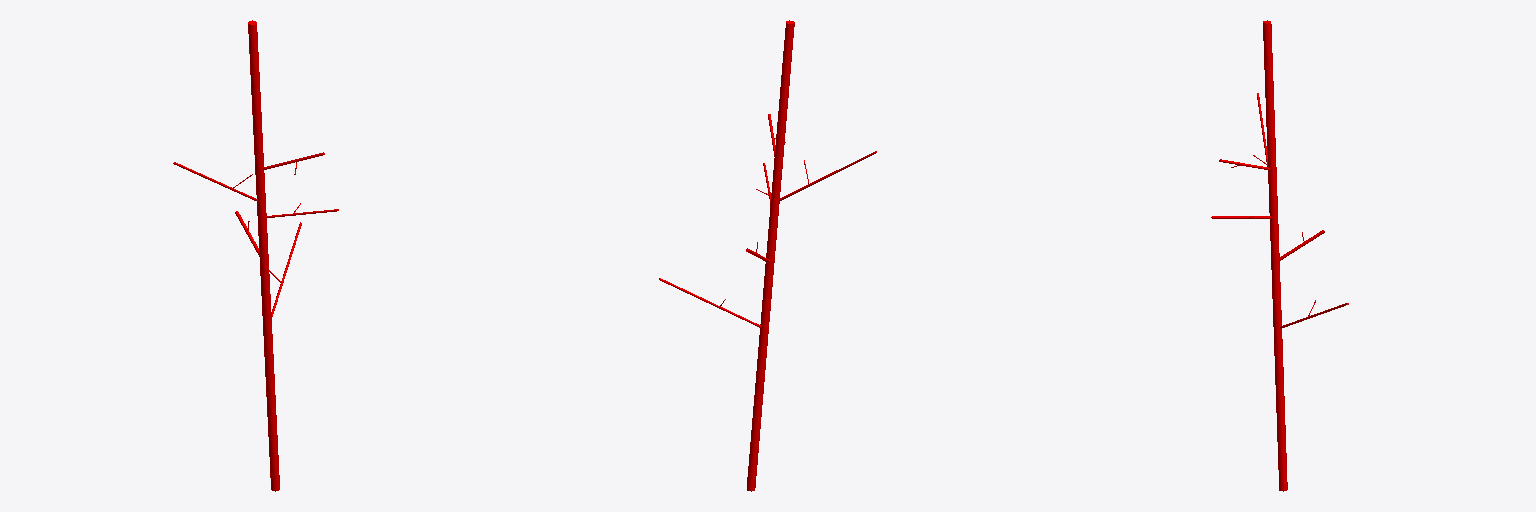
The robot description file, URDF, robot "tree_193.urdf":
<?xml version='1.0' encoding='UTF-8'?>
<robot name="tree_193.urdf">
  <link name="branch_0">
    <inertial>
      <origin xyz="0.0 0.0 0.0" rpy="0.0 -0.0 0.0"/>
      <mass value="0.1"/>
      <inertia ixx="0.001" ixy="0.0" ixz="0.0" iyy="0.001" iyz="0.0" izz="0.001"/>
    </inertial>
    <visual name="branch_0_visual">
      <geometry>
        <cylinder radius="0.08760829217096629" length="10.22657704742561"/>
      </geometry>
      <material name="semantic_material"/>
      <origin xyz="-0.3532584911329669 -0.16659699488465818 5.098350067077675" rpy="0.0 0.07645810023655039 -2.700921392462164"/>
    </visual>
    <collision name="branch_0_collision">
      <geometry>
        <cylinder radius="0.08760829217096629" length="10.22657704742561"/>
      </geometry>
      <origin xyz="-0.3532584911329669 -0.16659699488465818 5.098350067077675" rpy="0.0 0.07645810023655039 -2.700921392462164"/>
    </collision>
  </link>
  <link name="branch_1">
    <inertial>
      <origin xyz="0.0 0.0 0.0" rpy="0.0 -0.0 0.0"/>
      <mass value="0.1"/>
      <inertia ixx="0.001" ixy="0.0" ixz="0.0" iyy="0.001" iyz="0.0" izz="0.001"/>
    </inertial>
    <visual name="branch_1_visual">
      <geometry>
        <cylinder radius="0.034372237365406046" length="1.195535919893722"/>
      </geometry>
      <material name="semantic_material"/>
      <origin xyz="0.0 0.0 0.0" rpy="0.0 -0.0 0.0"/>
    </visual>
    <collision name="branch_1_collision">
      <geometry>
        <cylinder radius="0.034372237365406046" length="1.195535919893722"/>
      </geometry>
      <origin xyz="0.0 0.0 0.0" rpy="0.0 -0.0 0.0"/>
    </collision>
  </link>
  <link name="branch_2">
    <inertial>
      <origin xyz="0.0 0.0 0.0" rpy="0.0 -0.0 0.0"/>
      <mass value="0.1"/>
      <inertia ixx="0.001" ixy="0.0" ixz="0.0" iyy="0.001" iyz="0.0" izz="0.001"/>
    </inertial>
    <visual name="branch_2_visual">
      <geometry>
        <cylinder radius="0.01" length="0.26013743660342514"/>
      </geometry>
      <material name="semantic_material"/>
      <origin xyz="0.0 0.0 0.0" rpy="0.0 -0.0 0.0"/>
    </visual>
    <collision name="branch_2_collision">
      <geometry>
        <cylinder radius="0.01" length="0.26013743660342514"/>
      </geometry>
      <origin xyz="0.0 0.0 0.0" rpy="0.0 -0.0 0.0"/>
    </collision>
  </link>
  <link name="branch_3">
    <inertial>
      <origin xyz="0.0 0.0 0.0" rpy="0.0 -0.0 0.0"/>
      <mass value="0.1"/>
      <inertia ixx="0.001" ixy="0.0" ixz="0.0" iyy="0.001" iyz="0.0" izz="0.001"/>
    </inertial>
    <visual name="branch_3_visual">
      <geometry>
        <cylinder radius="0.0220740018327571" length="1.64870606600285"/>
      </geometry>
      <material name="semantic_material"/>
      <origin xyz="0.0 0.0 0.0" rpy="0.0 -0.0 0.0"/>
    </visual>
    <collision name="branch_3_collision">
      <geometry>
        <cylinder radius="0.0220740018327571" length="1.64870606600285"/>
      </geometry>
      <origin xyz="0.0 0.0 0.0" rpy="0.0 -0.0 0.0"/>
    </collision>
  </link>
  <link name="branch_4">
    <inertial>
      <origin xyz="0.0 0.0 0.0" rpy="0.0 -0.0 0.0"/>
      <mass value="0.1"/>
      <inertia ixx="0.001" ixy="0.0" ixz="0.0" iyy="0.001" iyz="0.0" izz="0.001"/>
    </inertial>
    <visual name="branch_4_visual">
      <geometry>
        <cylinder radius="0.01" length="0.3044746708838718"/>
      </geometry>
      <material name="semantic_material"/>
      <origin xyz="0.0 0.0 0.0" rpy="0.0 -0.0 0.0"/>
    </visual>
    <collision name="branch_4_collision">
      <geometry>
        <cylinder radius="0.01" length="0.3044746708838718"/>
      </geometry>
      <origin xyz="0.0 0.0 0.0" rpy="0.0 -0.0 0.0"/>
    </collision>
  </link>
  <link name="branch_5">
    <inertial>
      <origin xyz="0.0 0.0 0.0" rpy="0.0 -0.0 0.0"/>
      <mass value="0.1"/>
      <inertia ixx="0.001" ixy="0.0" ixz="0.0" iyy="0.001" iyz="0.0" izz="0.001"/>
    </inertial>
    <visual name="branch_5_visual">
      <geometry>
        <cylinder radius="0.028685349026351233" length="1.4568151493774562"/>
      </geometry>
      <material name="semantic_material"/>
      <origin xyz="0.0 0.0 0.0" rpy="0.0 -0.0 0.0"/>
    </visual>
    <collision name="branch_5_collision">
      <geometry>
        <cylinder radius="0.028685349026351233" length="1.4568151493774562"/>
      </geometry>
      <origin xyz="0.0 0.0 0.0" rpy="0.0 -0.0 0.0"/>
    </collision>
  </link>
  <link name="branch_6">
    <inertial>
      <origin xyz="0.0 0.0 0.0" rpy="0.0 -0.0 0.0"/>
      <mass value="0.1"/>
      <inertia ixx="0.001" ixy="0.0" ixz="0.0" iyy="0.001" iyz="0.0" izz="0.001"/>
    </inertial>
    <visual name="branch_6_visual">
      <geometry>
        <cylinder radius="0.0100303364968247" length="0.3323636471024046"/>
      </geometry>
      <material name="semantic_material"/>
      <origin xyz="0.0 0.0 0.0" rpy="0.0 -0.0 0.0"/>
    </visual>
    <collision name="branch_6_collision">
      <geometry>
        <cylinder radius="0.0100303364968247" length="0.3323636471024046"/>
      </geometry>
      <origin xyz="0.0 0.0 0.0" rpy="0.0 -0.0 0.0"/>
    </collision>
  </link>
  <link name="branch_7">
    <inertial>
      <origin xyz="0.0 0.0 0.0" rpy="0.0 -0.0 0.0"/>
      <mass value="0.1"/>
      <inertia ixx="0.001" ixy="0.0" ixz="0.0" iyy="0.001" iyz="0.0" izz="0.001"/>
    </inertial>
    <visual name="branch_7_visual">
      <geometry>
        <cylinder radius="0.02435582551982178" length="2.5895626545901753"/>
      </geometry>
      <material name="semantic_material"/>
      <origin xyz="0.0 0.0 0.0" rpy="0.0 -0.0 0.0"/>
    </visual>
    <collision name="branch_7_collision">
      <geometry>
        <cylinder radius="0.02435582551982178" length="2.5895626545901753"/>
      </geometry>
      <origin xyz="0.0 0.0 0.0" rpy="0.0 -0.0 0.0"/>
    </collision>
  </link>
  <link name="branch_8">
    <inertial>
      <origin xyz="0.0 0.0 0.0" rpy="0.0 -0.0 0.0"/>
      <mass value="0.1"/>
      <inertia ixx="0.001" ixy="0.0" ixz="0.0" iyy="0.001" iyz="0.0" izz="0.001"/>
    </inertial>
    <visual name="branch_8_visual">
      <geometry>
        <cylinder radius="0.01" length="0.5506922758403161"/>
      </geometry>
      <material name="semantic_material"/>
      <origin xyz="0.0 0.0 0.0" rpy="0.0 -0.0 0.0"/>
    </visual>
    <collision name="branch_8_collision">
      <geometry>
        <cylinder radius="0.01" length="0.5506922758403161"/>
      </geometry>
      <origin xyz="0.0 0.0 0.0" rpy="0.0 -0.0 0.0"/>
    </collision>
  </link>
  <link name="branch_9">
    <inertial>
      <origin xyz="0.0 0.0 0.0" rpy="0.0 -0.0 0.0"/>
      <mass value="0.1"/>
      <inertia ixx="0.001" ixy="0.0" ixz="0.0" iyy="0.001" iyz="0.0" izz="0.001"/>
    </inertial>
    <visual name="branch_9_visual">
      <geometry>
        <cylinder radius="0.02382242376719312" length="2.482213549675981"/>
      </geometry>
      <material name="semantic_material"/>
      <origin xyz="0.0 0.0 0.0" rpy="0.0 -0.0 0.0"/>
    </visual>
    <collision name="branch_9_collision">
      <geometry>
        <cylinder radius="0.02382242376719312" length="2.482213549675981"/>
      </geometry>
      <origin xyz="0.0 0.0 0.0" rpy="0.0 -0.0 0.0"/>
    </collision>
  </link>
  <link name="branch_10">
    <inertial>
      <origin xyz="0.0 0.0 0.0" rpy="0.0 -0.0 0.0"/>
      <mass value="0.1"/>
      <inertia ixx="0.001" ixy="0.0" ixz="0.0" iyy="0.001" iyz="0.0" izz="0.001"/>
    </inertial>
    <visual name="branch_10_visual">
      <geometry>
        <cylinder radius="0.01" length="0.41863909189171883"/>
      </geometry>
      <material name="semantic_material"/>
      <origin xyz="0.0 0.0 0.0" rpy="0.0 -0.0 0.0"/>
    </visual>
    <collision name="branch_10_collision">
      <geometry>
        <cylinder radius="0.01" length="0.41863909189171883"/>
      </geometry>
      <origin xyz="0.0 0.0 0.0" rpy="0.0 -0.0 0.0"/>
    </collision>
  </link>
  <joint name="joint_0_1" type="fixed">
    <parent link="branch_0"/>
    <child link="branch_1"/>
    <axis xyz="1. 0. 0."/>
    <origin xyz="-0.36759084039128476 0.33177277286670287 5.302727515189735" rpy="-0.12250529230961192 0.969454662100854 1.4699586641494564"/>
  </joint>
  <joint name="joint_0_3" type="fixed">
    <parent link="branch_0"/>
    <child link="branch_3"/>
    <axis xyz="1. 0. 0."/>
    <origin xyz="0.06627531220144088 -0.8279004252006512 6.160068554506863" rpy="0.26896307803392755 1.286820539588127 -0.6454009291133022"/>
  </joint>
  <joint name="joint_0_5" type="fixed">
    <parent link="branch_0"/>
    <child link="branch_5"/>
    <axis xyz="1. 0. 0."/>
    <origin xyz="-0.07750765490815738 -0.7584183669313346 7.272064703175821" rpy="0.18377313648424504 1.1532261067805785 -0.7164720895265247"/>
  </joint>
  <joint name="joint_0_7" type="fixed">
    <parent link="branch_0"/>
    <child link="branch_7"/>
    <axis xyz="1. 0. 0."/>
    <origin xyz="-1.4935506425185305 -0.3641618979695866 6.999085501875595" rpy="-0.04117771296793573 0.9733609094904307 -3.042141265419351"/>
  </joint>
  <joint name="joint_0_9" type="fixed">
    <parent link="branch_0"/>
    <child link="branch_9"/>
    <axis xyz="1. 0. 0."/>
    <origin xyz="0.5388007304290323 0.5998378550965141 4.159576260968761" rpy="-0.041522932581990586 1.0225084457217073 0.6916301182253137"/>
  </joint>
  <joint name="joint_1_2" type="fixed">
    <parent link="branch_0"/>
    <child link="branch_2"/>
    <axis xyz="1. 0. 0."/>
    <origin xyz="-0.3725103017086193 0.40361835111023897 5.497213565127612" rpy="0.010609303058283911 0.21053657262493894 -1.5282373496865072"/>
  </joint>
  <joint name="joint_3_4" type="fixed">
    <parent link="branch_0"/>
    <child link="branch_4"/>
    <axis xyz="1. 0. 0."/>
    <origin xyz="0.09810415469430597 -0.6466357409747598 6.1828882339636735" rpy="1.1184511820757455 0.15158353648234363 1.9415182663465844"/>
  </joint>
  <joint name="joint_5_6" type="fixed">
    <parent link="branch_0"/>
    <child link="branch_6"/>
    <axis xyz="1. 0. 0."/>
    <origin xyz="-0.09899560230376515 -0.9594336094059375 7.236992170801904" rpy="-2.152942241037884 0.40155458258208127 2.2102775001101107"/>
  </joint>
  <joint name="joint_7_8" type="fixed">
    <parent link="branch_0"/>
    <child link="branch_8"/>
    <axis xyz="1. 0. 0."/>
    <origin xyz="-1.0044828192156419 -0.4605344732168774 6.943913875887155" rpy="0.6549733629361422 0.5942410436018329 0.14681102297978674"/>
  </joint>
  <joint name="joint_9_10" type="fixed">
    <parent link="branch_0"/>
    <child link="branch_10"/>
    <axis xyz="1. 0. 0."/>
    <origin xyz="0.3091161398494123 0.5822280044511376 4.217214511854271" rpy="0.6926722625305297 0.35002029608811536 -2.599119958169621"/>
  </joint>
  <material name="semantic_material">
    <color rgba="1. 0. 0. 1."/>
  </material>
</robot>

--- Facts derived from the render (not from the file) ---
3 views of the same robot in one strip: view 1: azimuth 30°, elevation 25°; view 2: azimuth 150°, elevation 25°; view 3: azimuth 270°, elevation 25° (orthographic).
Model tree_193.urdf with 11 links and 10 joints (10 fixed), rooted at branch_0, posed every joint at zero.
Visible links, largest first — view 1: branch_0; view 2: branch_0; view 3: branch_0.
Boxes of the visible links, x1,y1,x2,y2 form: branch_0: (248,20,279,491); branch_0: (747,20,794,491); branch_0: (1263,20,1287,491).
Size in the robot's own frame: 3.91 by 2.81 by 10.21 metres.
Geometry: primitives only (box / cylinder / sphere), no mesh files.
